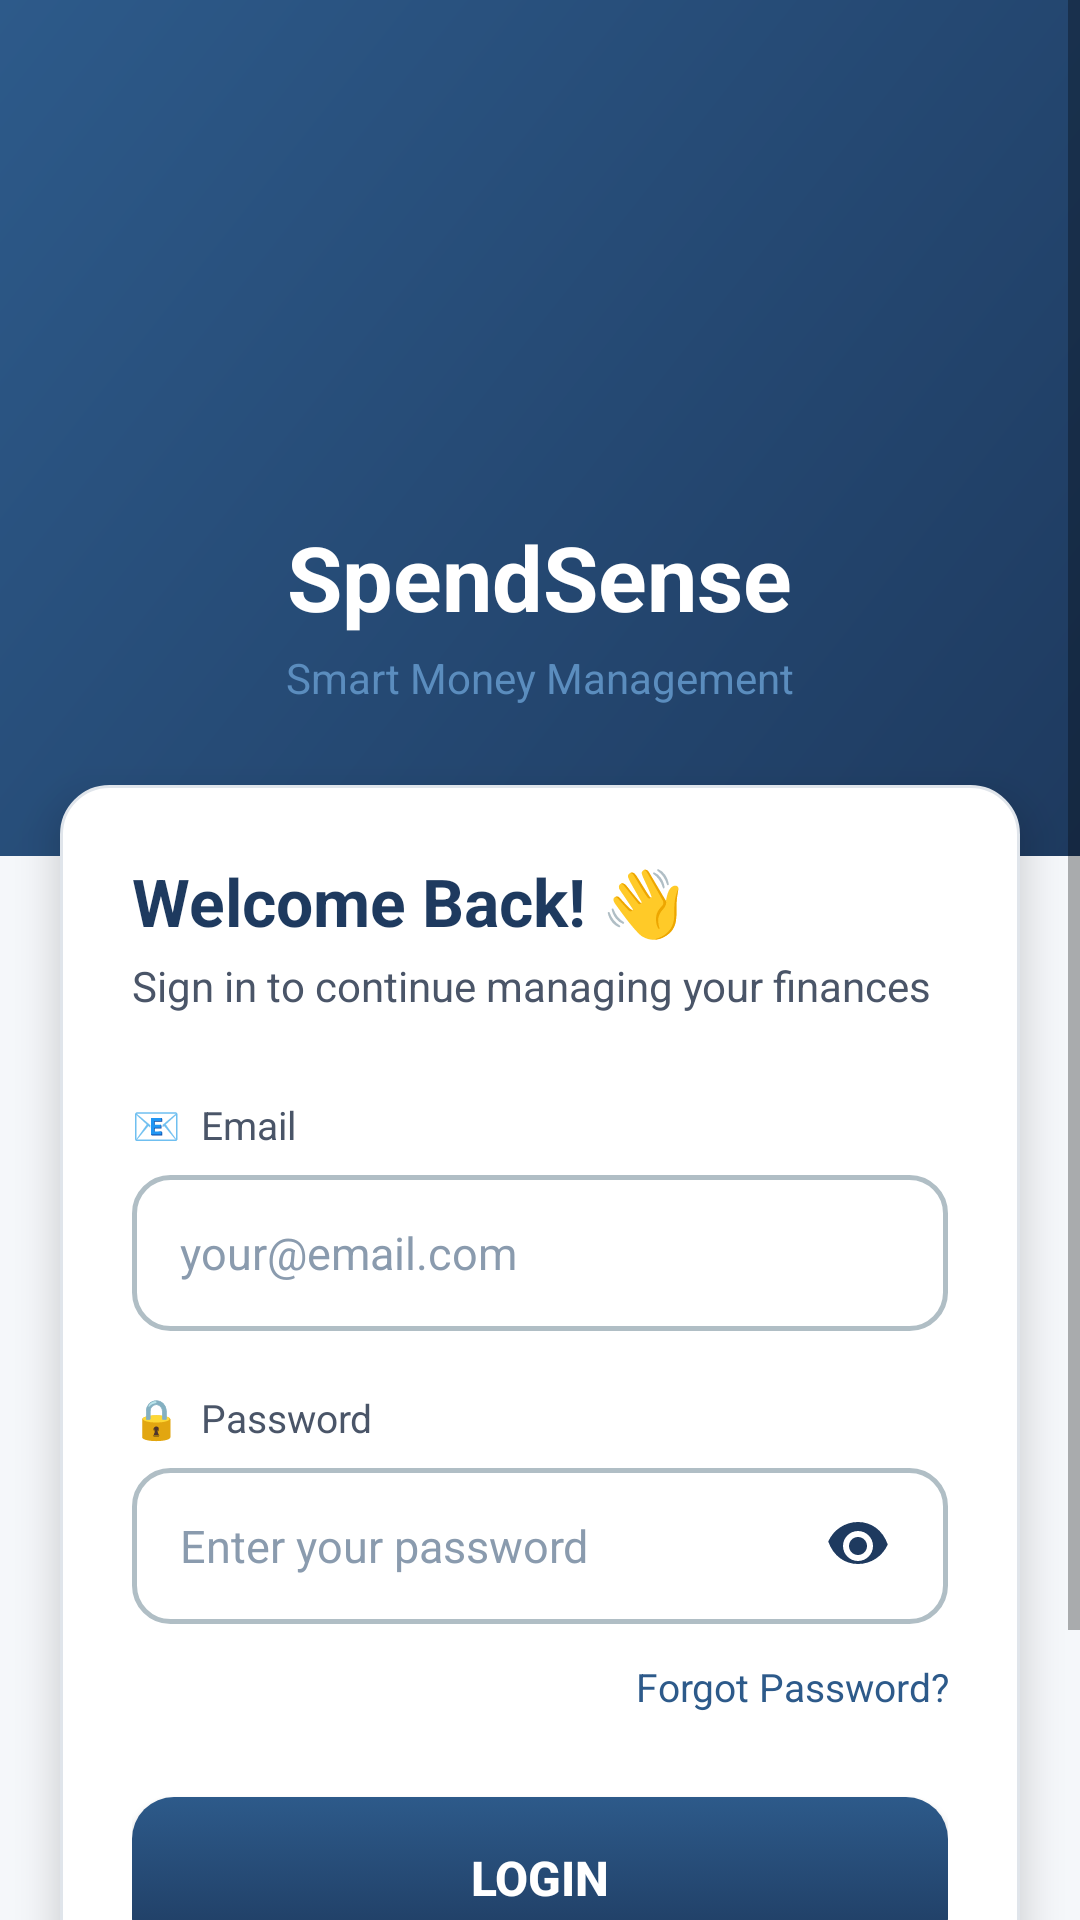

Icons on this 1080 × 1920 Android screen, each with the point to tap as (x=x, y=y):
Toggle Password: (x=858, y=1543)
